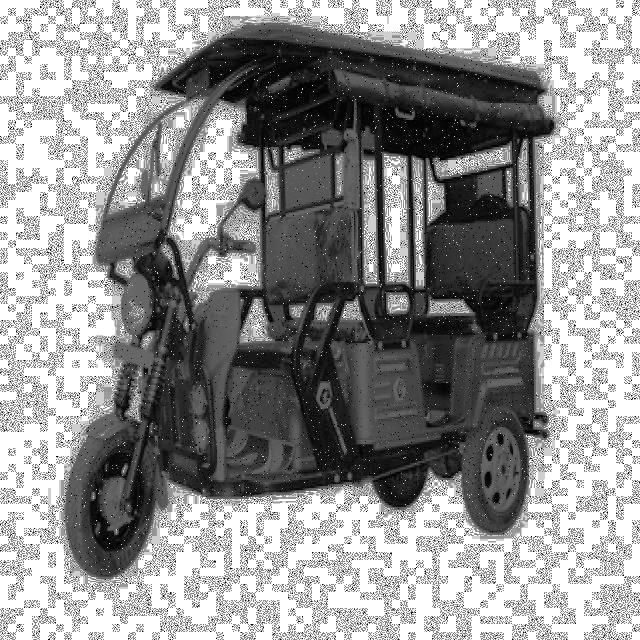Toto: (68, 17, 551, 577)
